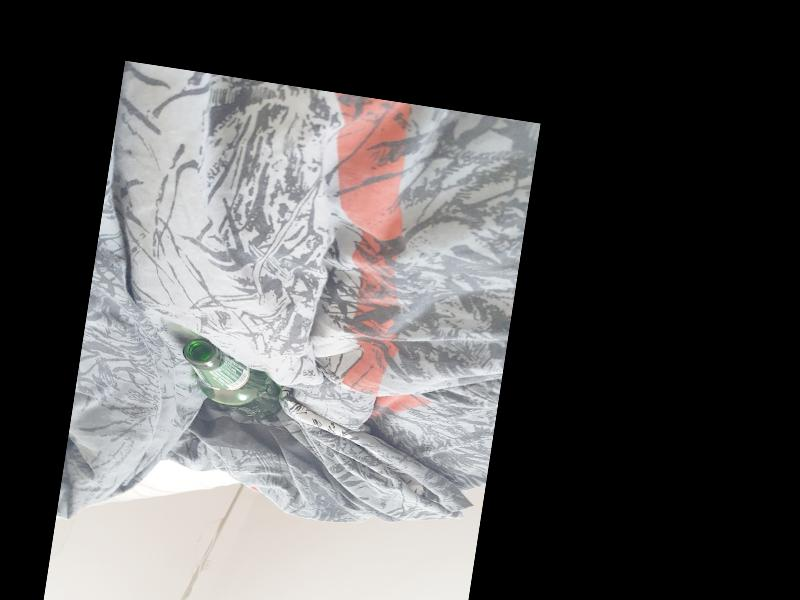Beer: (173, 335, 291, 422)
